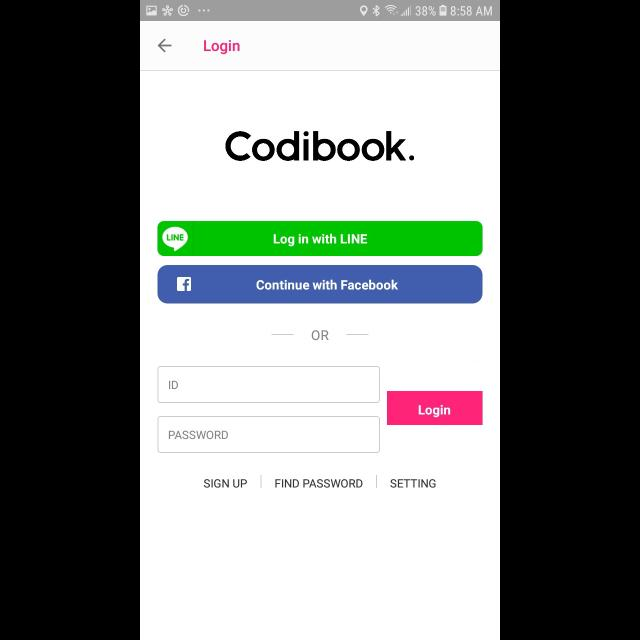icon: (158, 39, 172, 53)
input: (158, 366, 380, 404), (158, 416, 380, 454)
text: (226, 130, 414, 162), (275, 479, 363, 488), (170, 430, 228, 440), (204, 40, 240, 54), (390, 478, 436, 488), (205, 479, 248, 488), (312, 330, 328, 340), (170, 380, 178, 390)
textbutton: (158, 264, 482, 304), (158, 222, 482, 256), (387, 391, 483, 425)
uppertaskbar: (140, 1, 500, 22)
